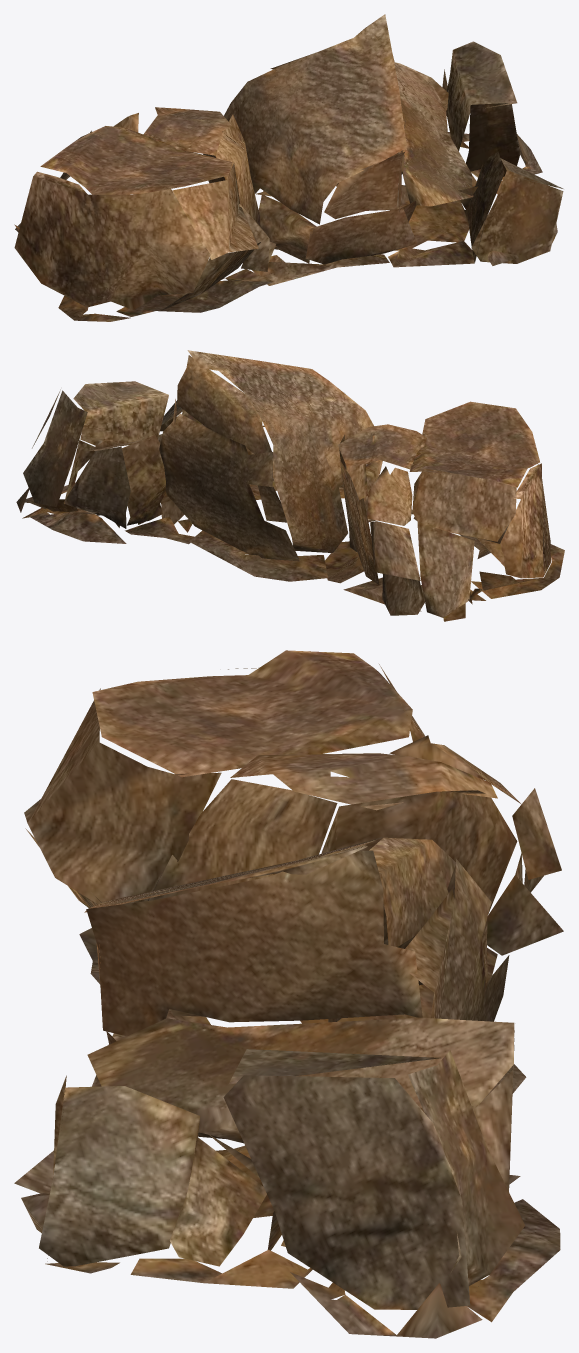
File: boulder.glb
3 views of the same model, one above another, from view 1: azimuth 30°, elevation 25°; view 2: azimuth 150°, elevation 25°; view 3: azimuth 270°, elevation 25° (orthographic). The views are drawn at different scales.
Parts seen in each view (by area): view 1: boulder; view 2: boulder; view 3: boulder.
Part boxes in pixels (left/top/right/bottom): boulder: left=14, top=14, right=563, bottom=321; boulder: left=16, top=350, right=564, bottom=621; boulder: left=14, top=650, right=563, bottom=1338.
Size of what is drawn, in the model's own units: 2.28 by 0.8241 by 1.13.
Materials: 1 (1 with a texture image).
